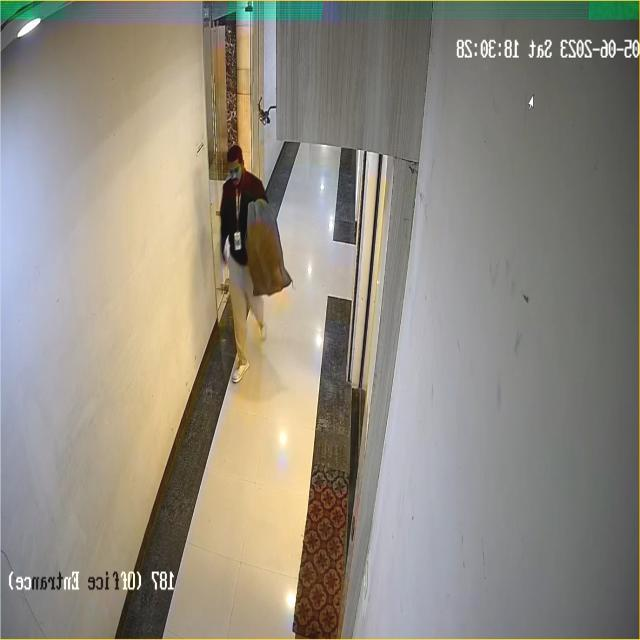gunny_bag: (244, 195, 292, 302)
